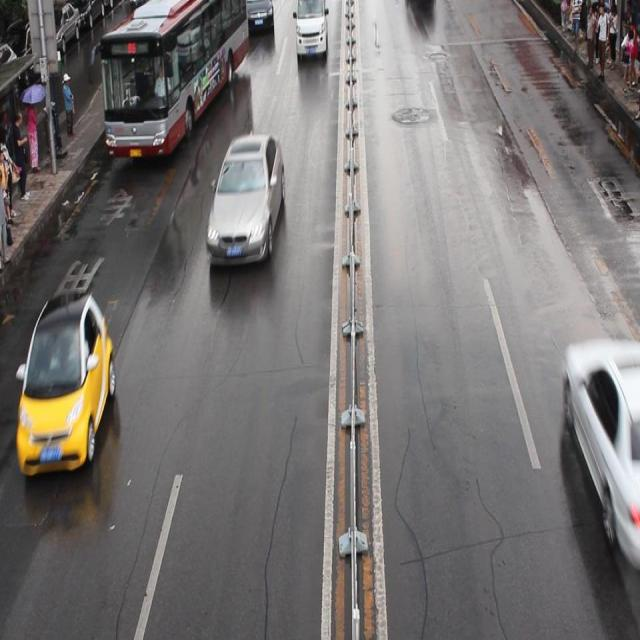car: (16, 290, 117, 480), (564, 336, 640, 566), (206, 129, 284, 268), (240, 1, 275, 36)
truck: (292, 1, 329, 57)
van: (99, 1, 247, 164)
